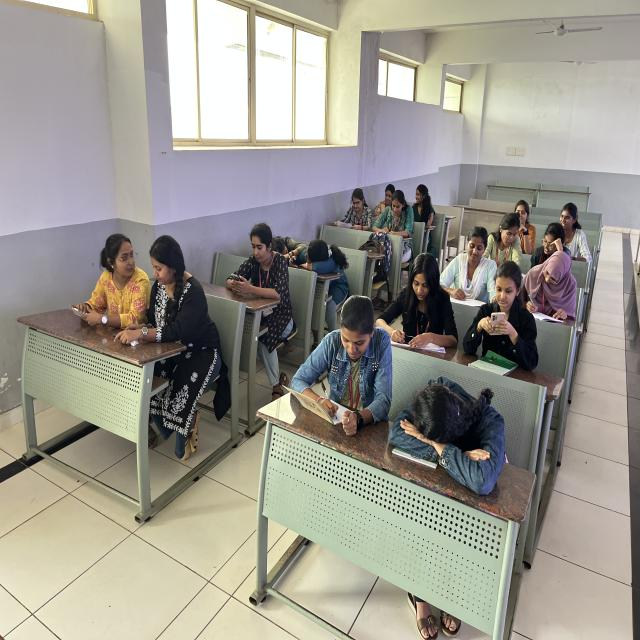Reading: (435, 228, 500, 302), (486, 210, 526, 274), (335, 185, 374, 231)
Sleeping: (383, 365, 521, 508), (291, 228, 354, 297)
Using Phone: (125, 233, 229, 380), (374, 250, 458, 362), (69, 226, 149, 340), (464, 262, 538, 370), (225, 219, 294, 333)
Writing: (288, 295, 397, 427), (517, 249, 586, 325), (371, 188, 424, 248)
